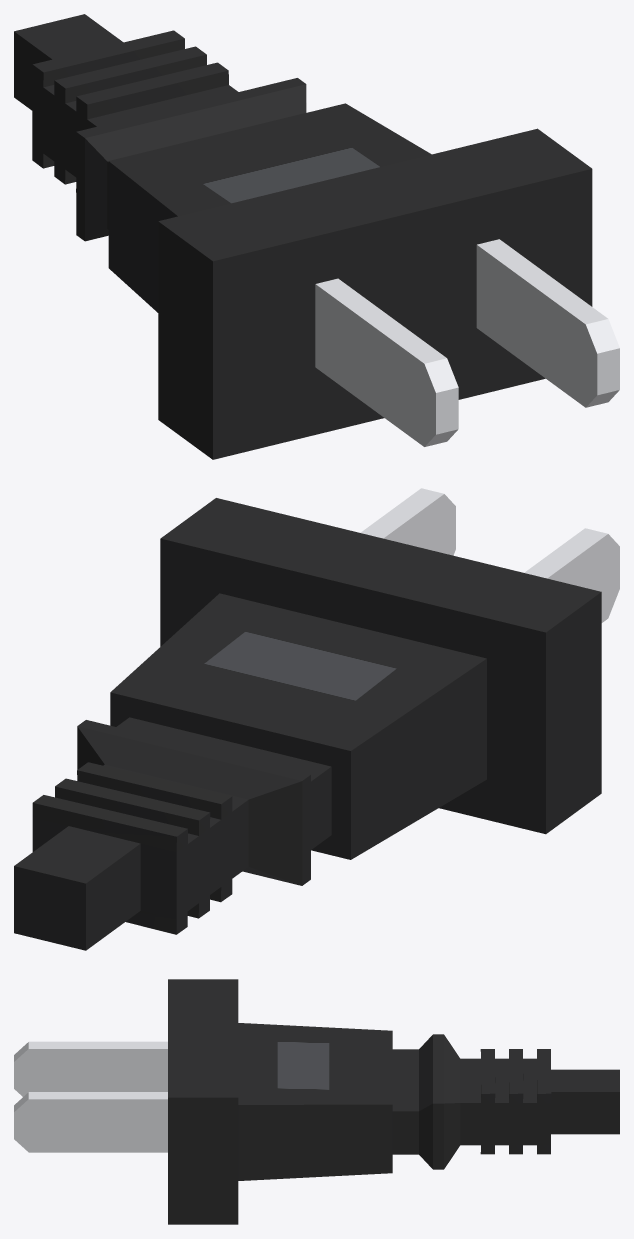
File: cea55208-9d1b-4b0e-b8f8-0cda3761fdbb.glb
The picture shows the model from 3 angles, top to bottom: view 1: azimuth 30°, elevation 25°; view 2: azimuth 150°, elevation 25°; view 3: azimuth 270°, elevation 25°; orthographic projection. The views are drawn at different scales.
Visible parts, largest first — view 1: Appliance_Plug_1; view 2: Appliance_Plug_1; view 3: Appliance_Plug_1.
Boxes of the visible parts, <box> form: Appliance_Plug_1: <box>14,14,619,459</box>; Appliance_Plug_1: <box>14,488,619,950</box>; Appliance_Plug_1: <box>14,979,619,1224</box>.
Size of the model in its own units: 200 by 100 by 432.
Materials: 1 (1 with a texture image).
